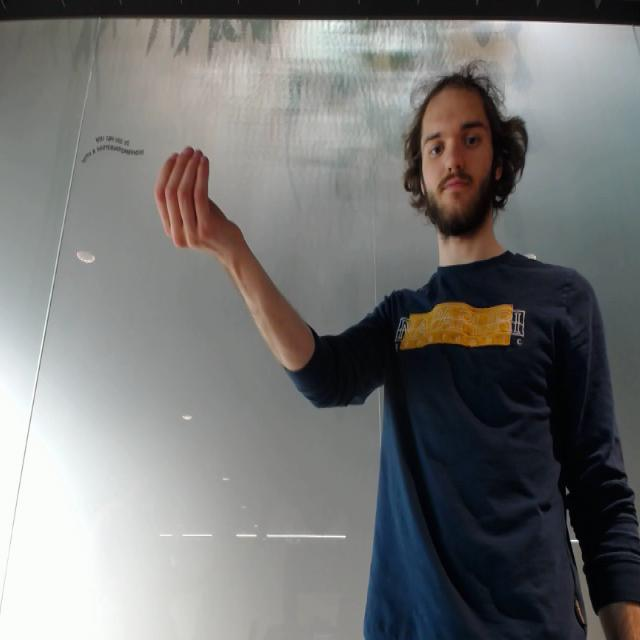forward: (152, 138, 238, 258)
